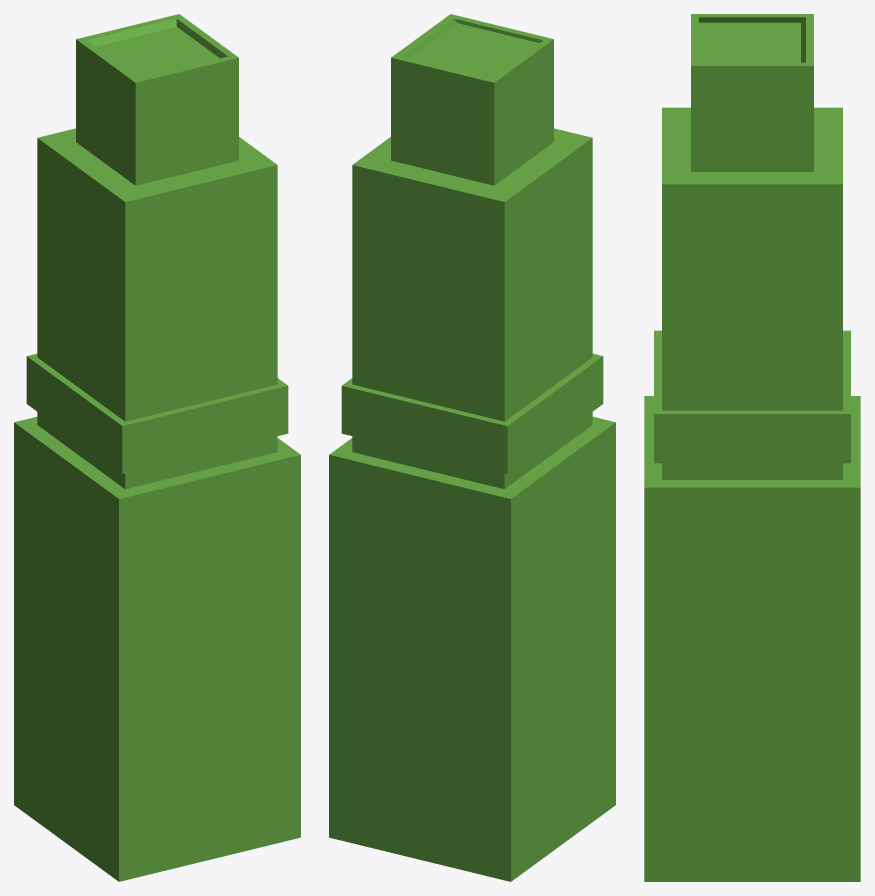
Rendered from Building4_green.fbx.
3 views of the same model, side by side, from view 1: azimuth 30°, elevation 25°; view 2: azimuth 150°, elevation 25°; view 3: azimuth 270°, elevation 25° (orthographic). The views are drawn at different scales.
Visible parts, largest first — view 1: Building 4; view 2: Building 4; view 3: Building 4.
Part boxes in pixels (box(x1,y1,x2,y2)): Building 4: box(14, 14, 300, 881); Building 4: box(329, 14, 615, 881); Building 4: box(644, 14, 860, 881).
Bounding box in the file's own units: 1195 × 4853 × 1195.
1 material, 1 textured.
